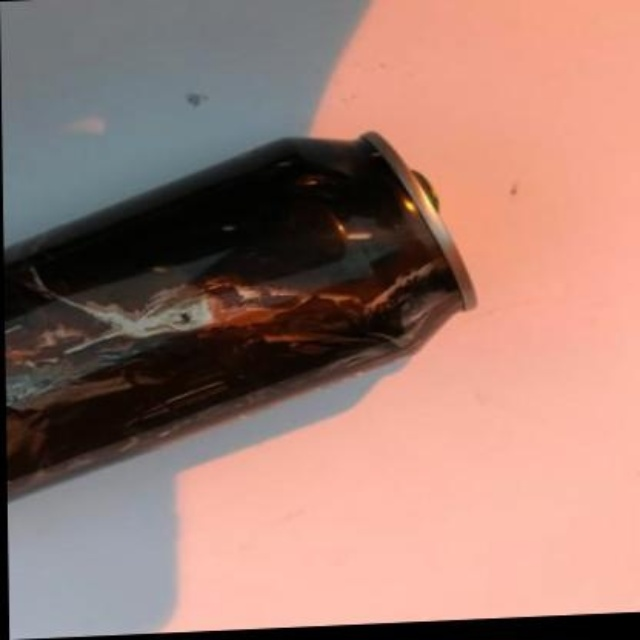trash: (6, 132, 474, 492)
